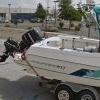Boat: (4, 22, 98, 91)
